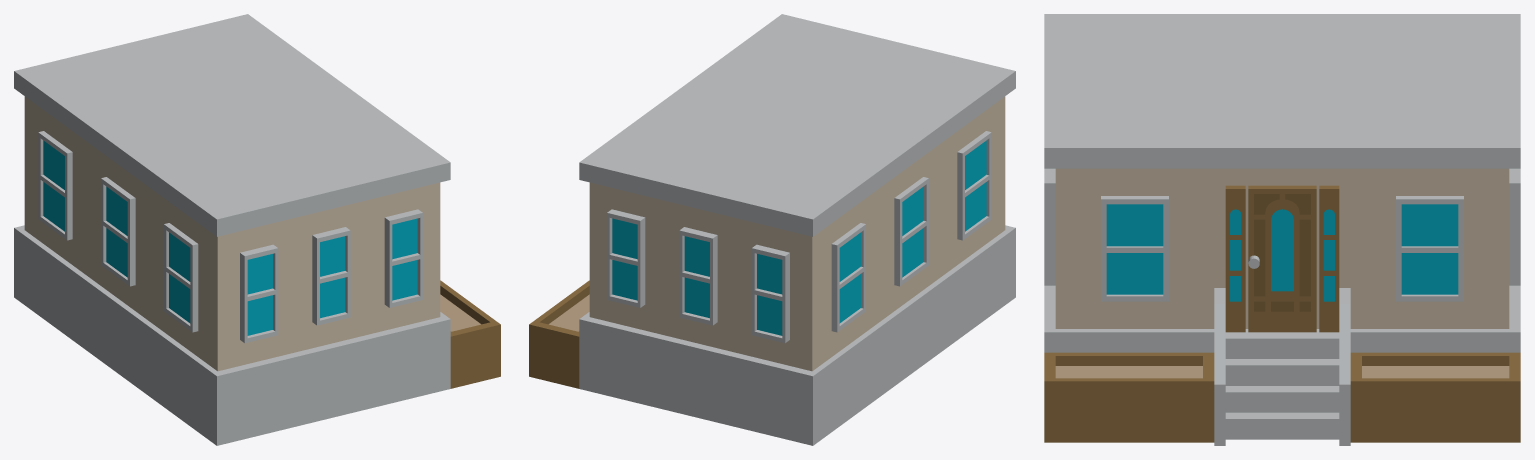
File: house.glb
3 views of the same model, side by side, from view 1: azimuth 30°, elevation 25°; view 2: azimuth 150°, elevation 25°; view 3: azimuth 270°, elevation 25° (orthographic). The views are drawn at different scales.
Visible parts, largest first — view 1: Mesh_Mesh_head_geo.001_lambert2SG.001; view 2: Mesh_Mesh_head_geo.001_lambert2SG.001; view 3: Mesh_Mesh_head_geo.001_lambert2SG.001.
Boxes of the visible parts, <box> form: Mesh_Mesh_head_geo.001_lambert2SG.001: <box>14,14,500,445</box>; Mesh_Mesh_head_geo.001_lambert2SG.001: <box>529,14,1015,445</box>; Mesh_Mesh_head_geo.001_lambert2SG.001: <box>1044,14,1520,445</box>.
Bounding box in the file's own units: 0.103 × 0.077 × 0.125.
